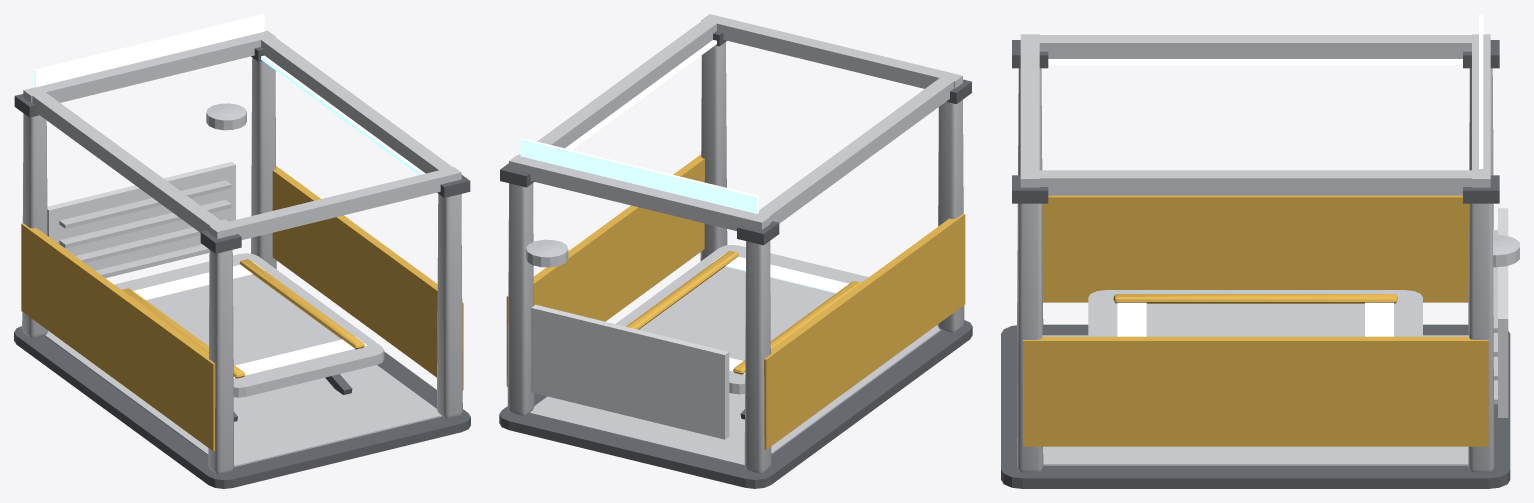
Rendered from hover-transit-and-antigrav-fleet-service-bay-lift-3262ae87__17117.glb.
The picture shows the model from 3 angles, left to right: view 1: azimuth 30°, elevation 25°; view 2: azimuth 150°, elevation 25°; view 3: azimuth 270°, elevation 25°; orthographic projection. The views are drawn at different scales.
Visible parts, largest first — view 1: service-bay-lift, lift-deck (×3); view 2: service-bay-lift, lift-deck (×3); view 3: service-bay-lift, lift-deck (×3).
Boxes of the visible parts, <box> form: service-bay-lift: <box>14,14,470,488</box>; lift-deck (×3): <box>114,253,384,397</box>; service-bay-lift: <box>499,14,972,488</box>; lift-deck (×3): <box>615,244,868,394</box>; service-bay-lift: <box>1001,14,1519,488</box>; lift-deck (×3): <box>1088,290,1422,336</box>.
Bounding box in the file's own units: 5 × 5.01 × 7.13.
